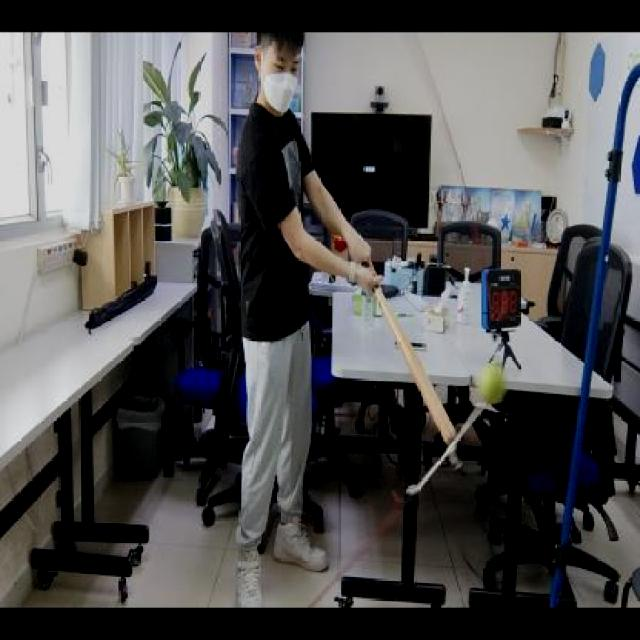ball: (478, 364, 508, 406)
bat: (374, 281, 462, 447)
